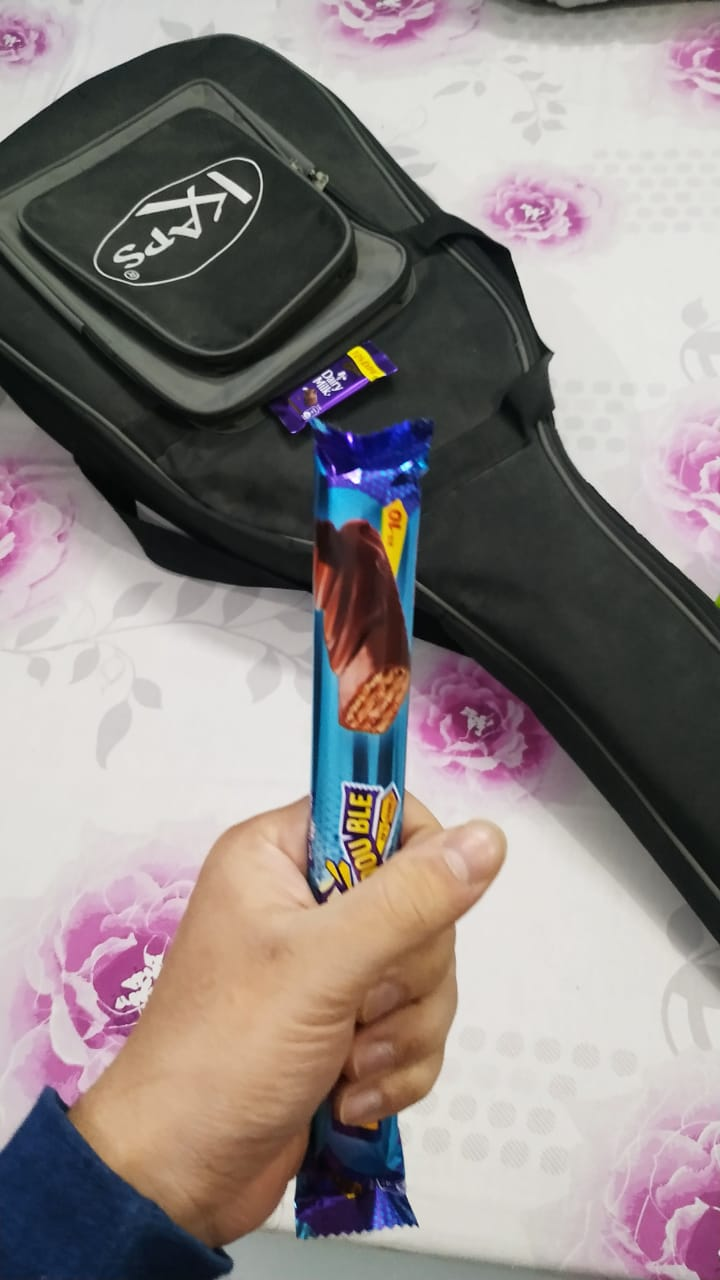perk: (276, 415, 427, 1251)
